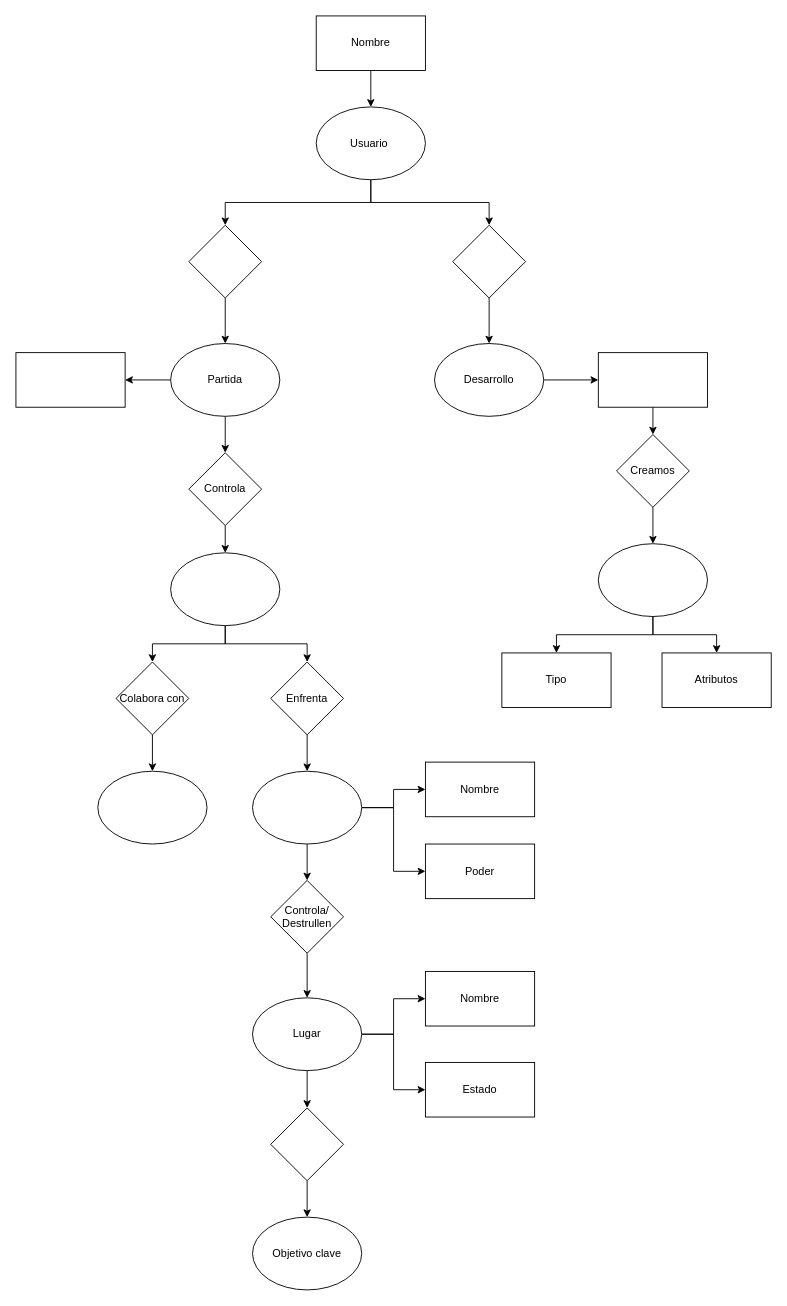
The diagram is 787 pixels wide and 1306 high, and some of its shapes have lost their labels. Each missing label, with the box of its shape:
Aliado: (97, 770, 207, 844)
Contenido: (597, 543, 708, 617)
Contiene: (270, 1107, 344, 1181)
Final alcanzado: (15, 352, 125, 407)
Interactúa: (452, 224, 526, 298)
Juega: (188, 224, 262, 298)
Nosotros/Equipo: (597, 352, 708, 407)
Protagonista: (170, 552, 280, 626)
Villano: (252, 770, 362, 844)
